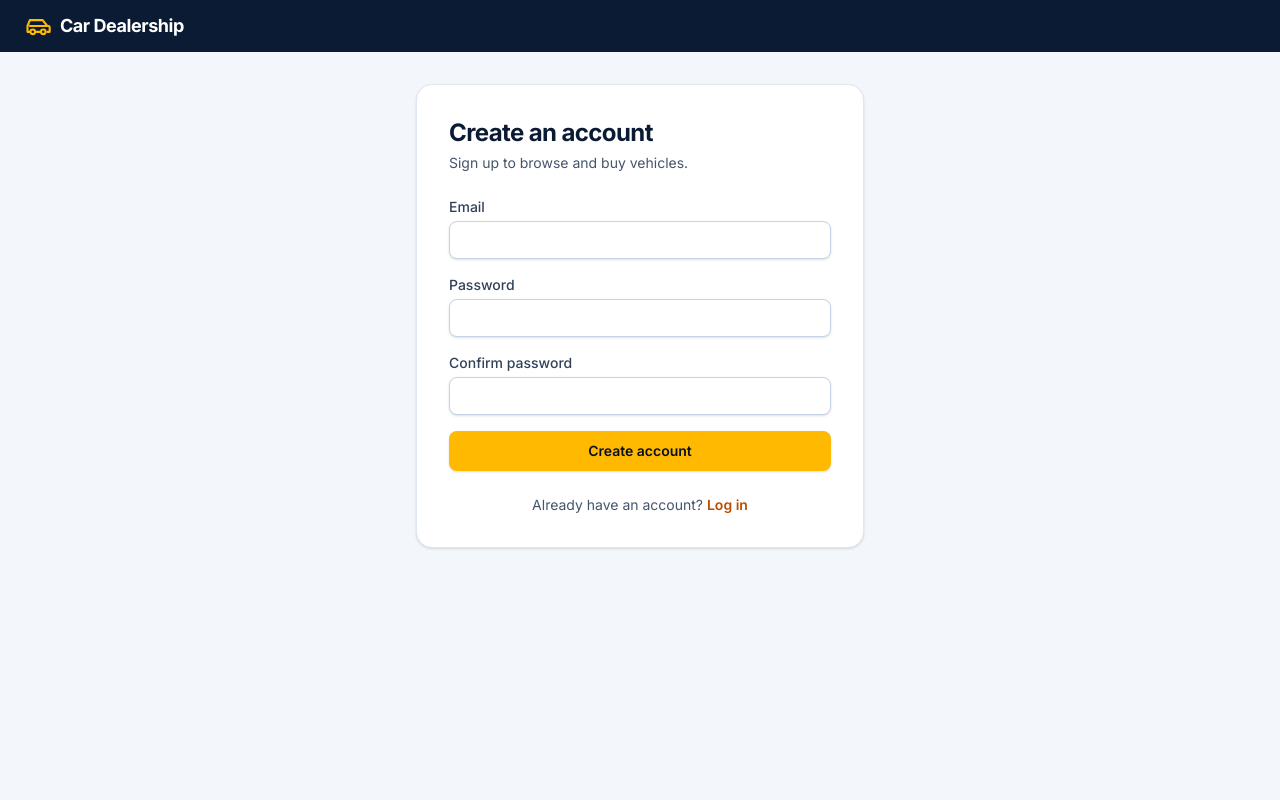
Test case: RegisterPage › rejects a password shorter than 8 characters
In the field labelled "Email": (640,240) [449,221,831,259], type "customer@example.com"
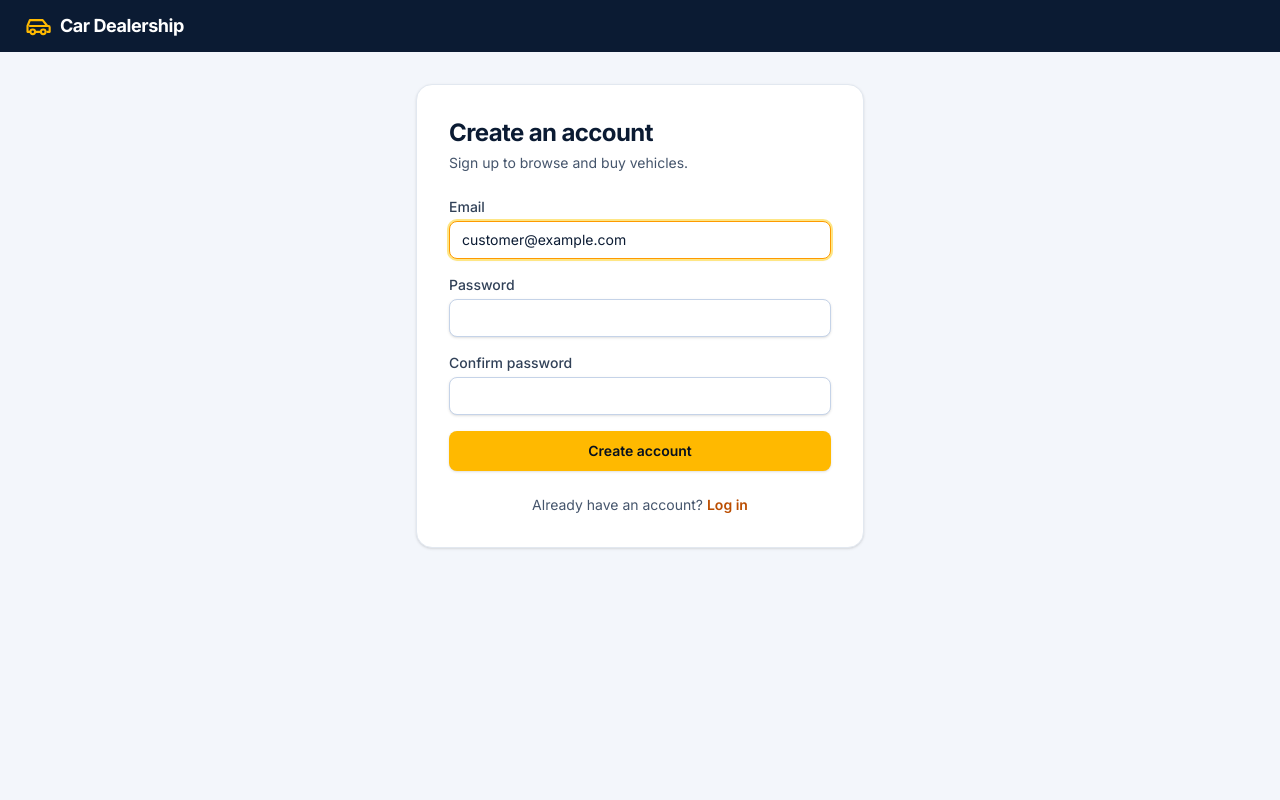
In the password field labelled "Password": (640,318) [449,299,831,337], type "short"
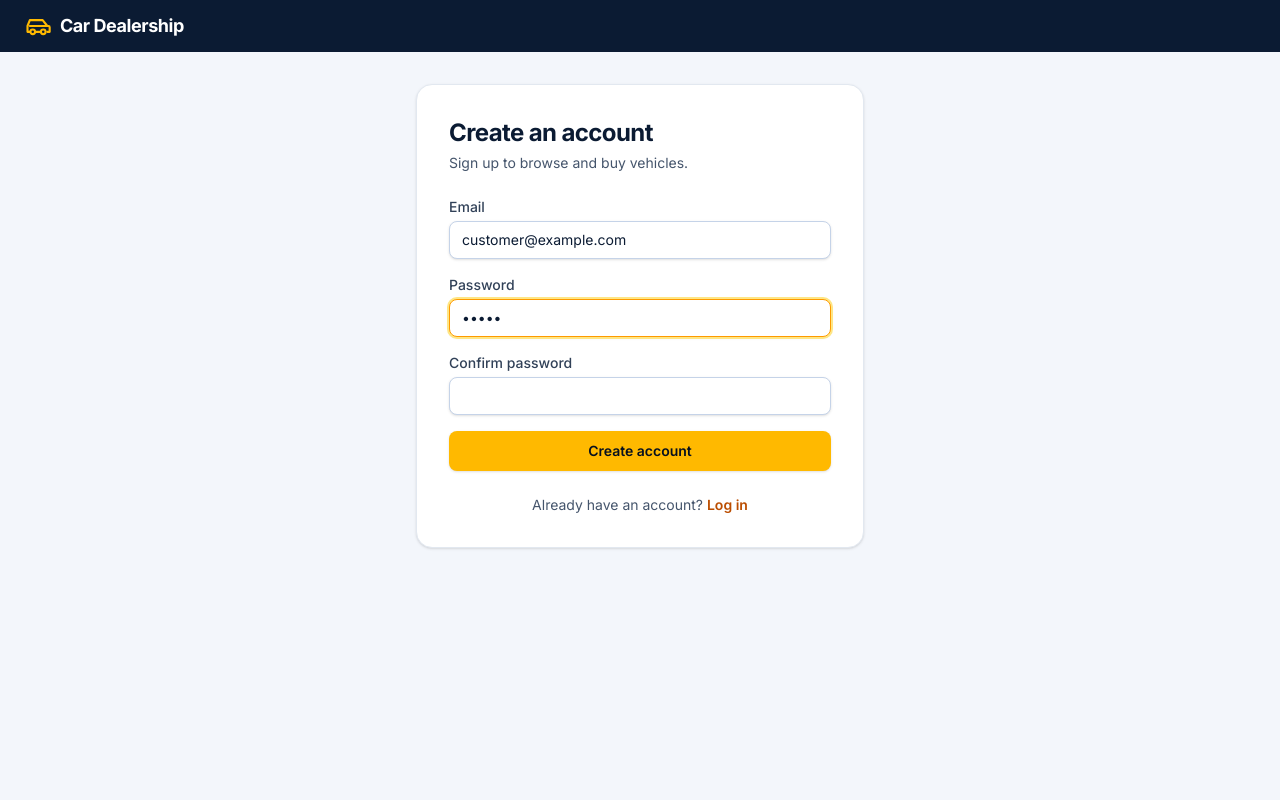
In the password field labelled "Confirm password": (640,396) [449,377,831,415], type "short"
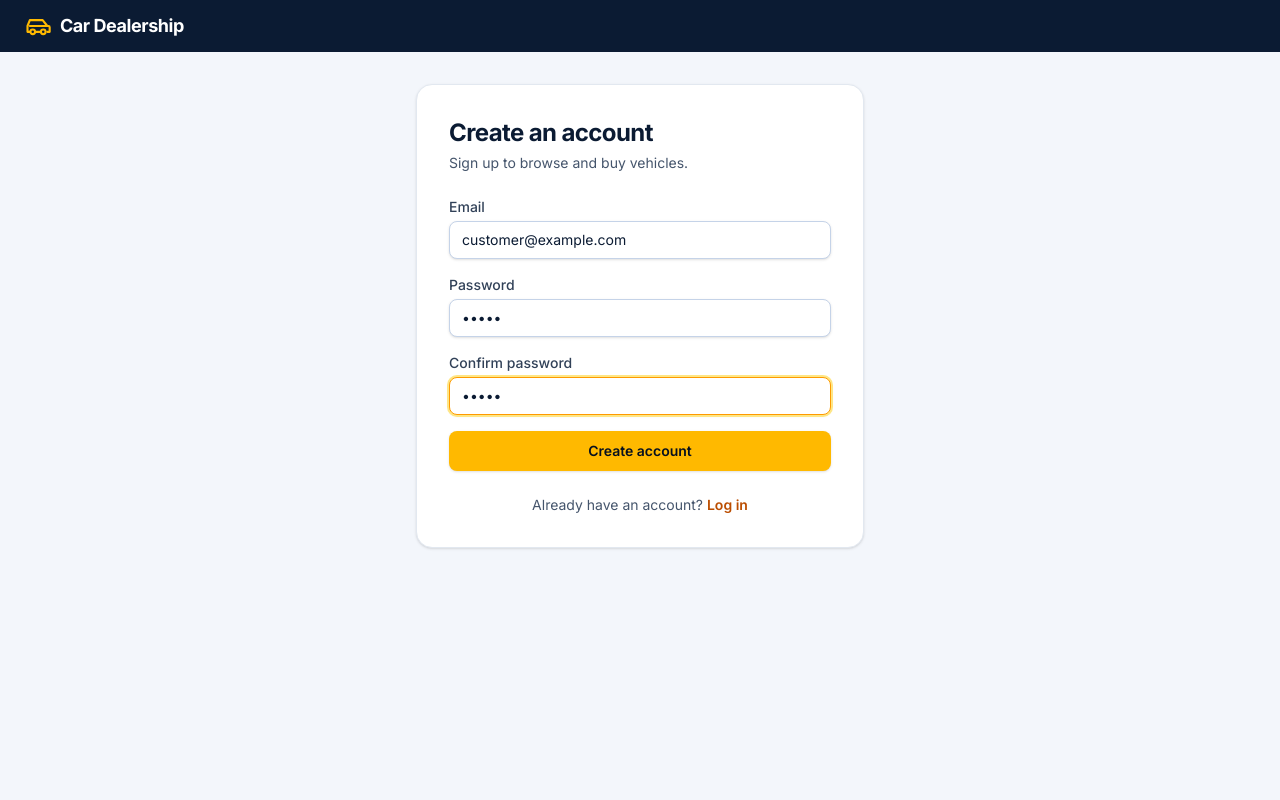
Click the button "Create account": (640,451) [449,431,831,471]
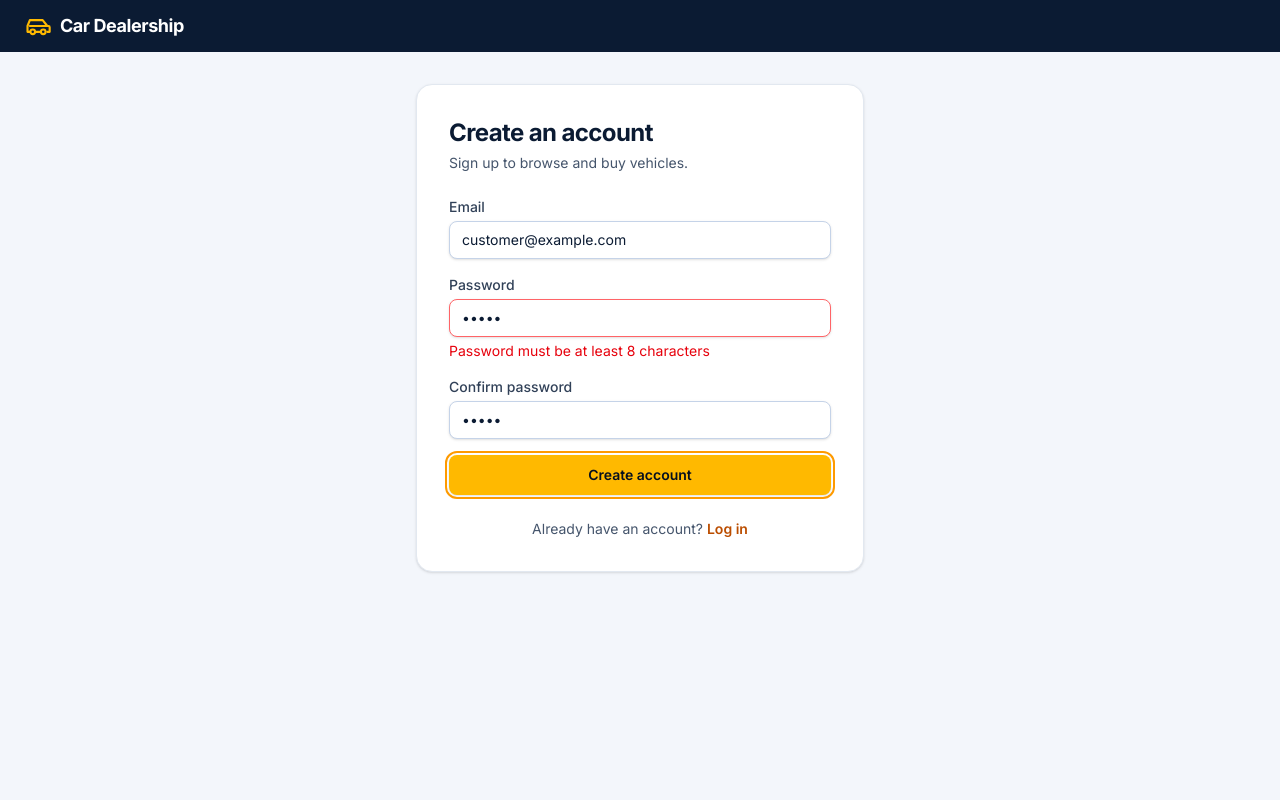
Now the text "Password must be at least 8 characters" is shown, box [449,342,710,359]
